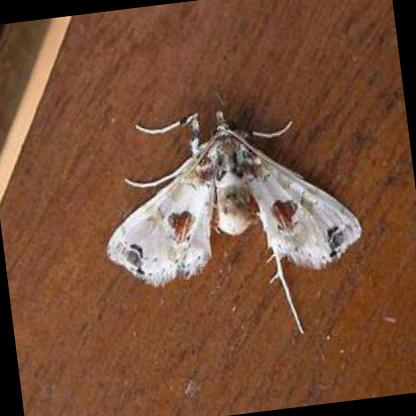leucinodes: (106, 114, 364, 280)
